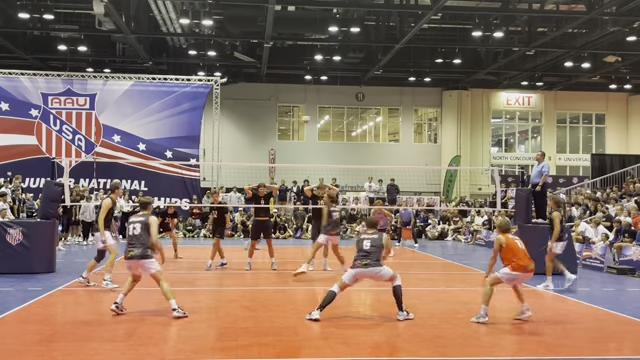ricezione: (303, 215, 417, 320)
